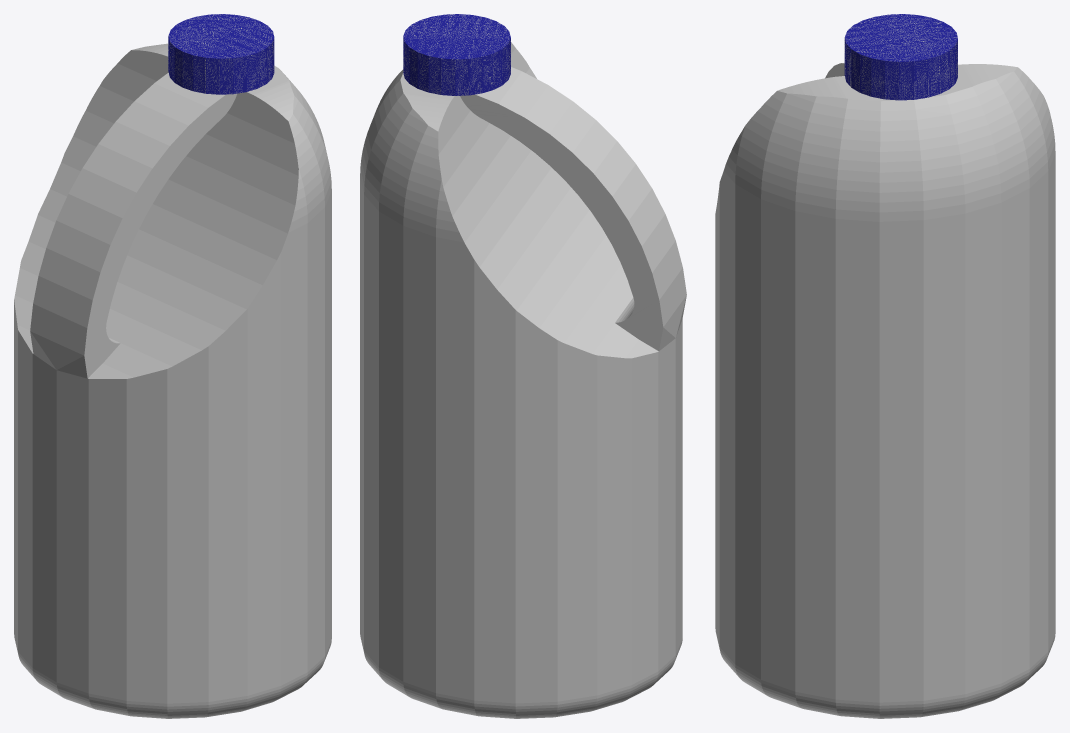
3 views of the same model, side by side, from view 1: azimuth 30°, elevation 25°; view 2: azimuth 150°, elevation 25°; view 3: azimuth 270°, elevation 25° (orthographic). The views are drawn at different scales.
Visible parts, largest first — view 1: mesh2_mesh2-geometry, mesh1_mesh1-geometry; view 2: mesh2_mesh2-geometry, mesh1_mesh1-geometry; view 3: mesh2_mesh2-geometry, mesh1_mesh1-geometry.
Boxes of the visible parts, left/top/right/bottom form: mesh2_mesh2-geometry: left=14, top=43, right=331, bottom=718; mesh1_mesh1-geometry: left=168, top=14, right=274, bottom=94; mesh2_mesh2-geometry: left=360, top=42, right=686, bottom=718; mesh1_mesh1-geometry: left=403, top=14, right=510, bottom=95; mesh2_mesh2-geometry: left=715, top=63, right=1055, bottom=718; mesh1_mesh1-geometry: left=844, top=14, right=957, bottom=100.
Size of the model in its own units: 0.3993 by 0.8279 by 0.394.
